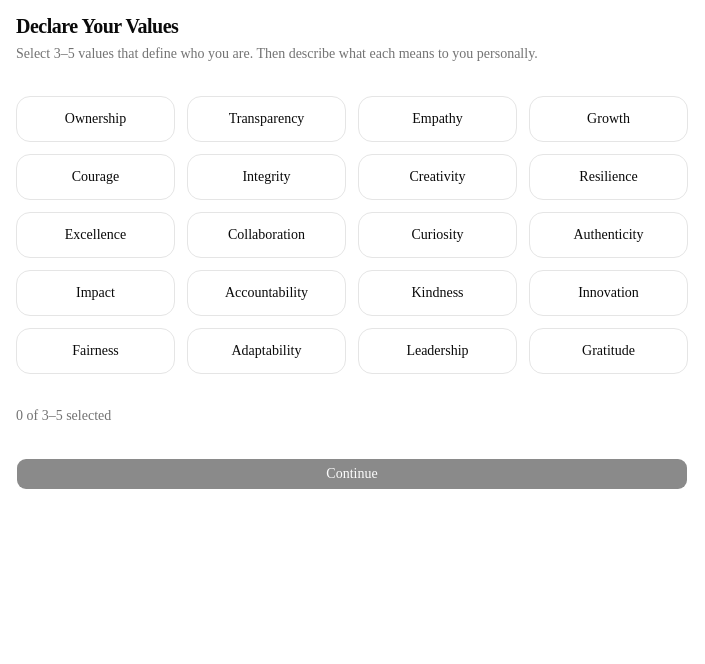
ValuesDeclaration › deselects a value on second click
Click the button "Empathy": (438, 119) [358,96,517,142]
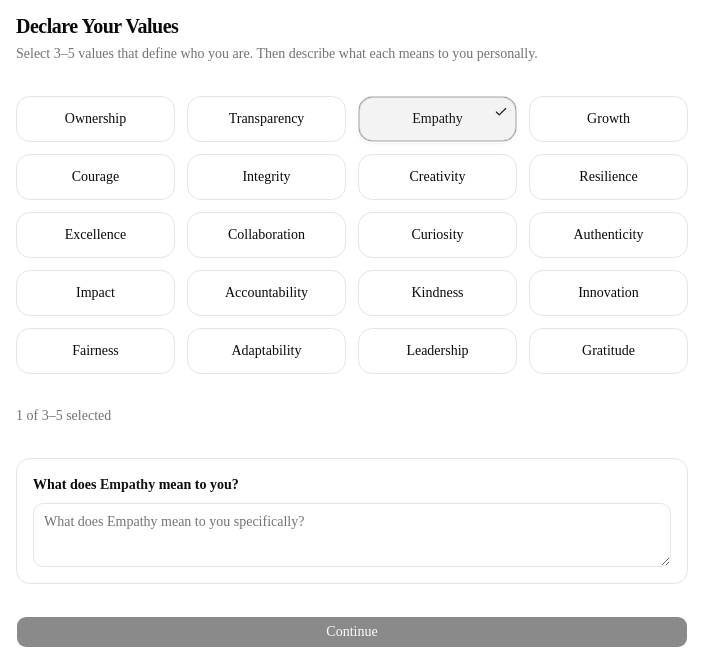
expect the text "1 of 3–5 selected" is shown: met, box [16,408,111,423]
Click the button "Empathy": (438, 119) [358,96,517,142]
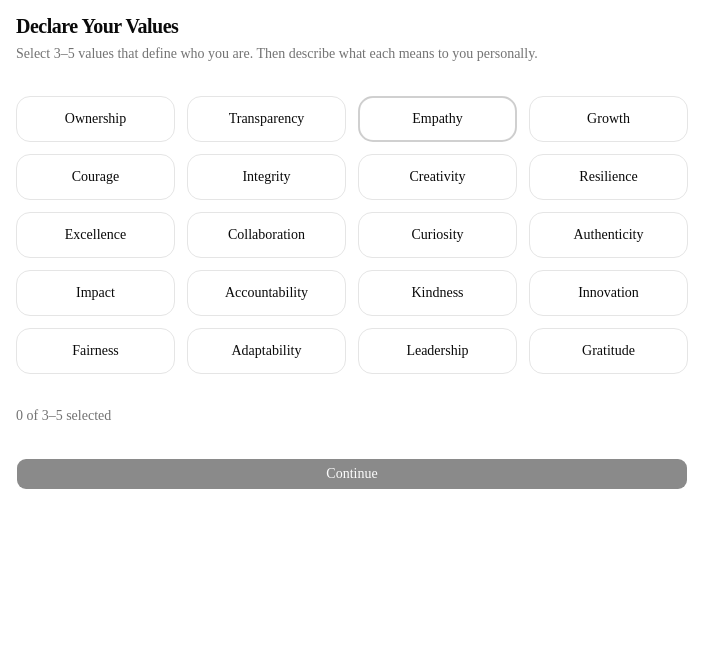
expect the text "0 of 3–5 selected" is shown: met, box [16,408,111,423]
expect the field with placeholder "What does Empathy mean" is gone: met
